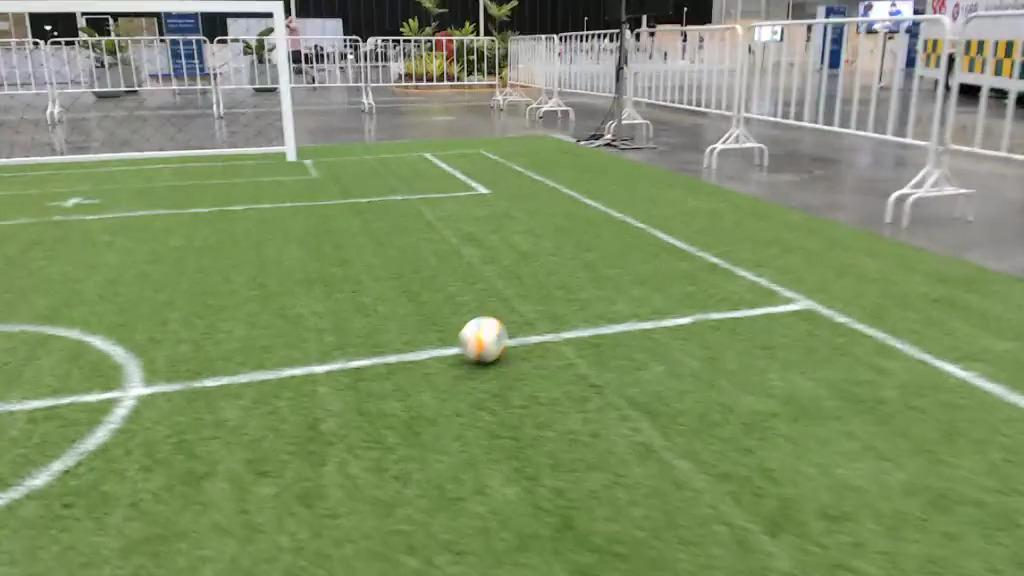ball: (460, 317, 505, 364)
